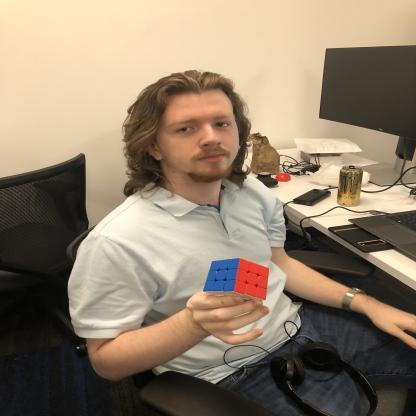SolvedCube: (206, 256, 269, 303)
